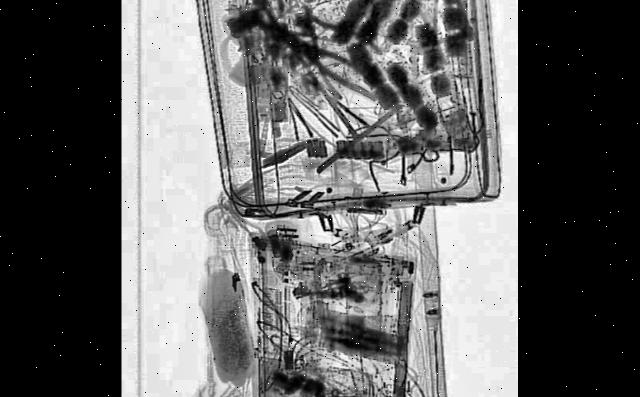Pliers: (296, 35, 378, 102)
